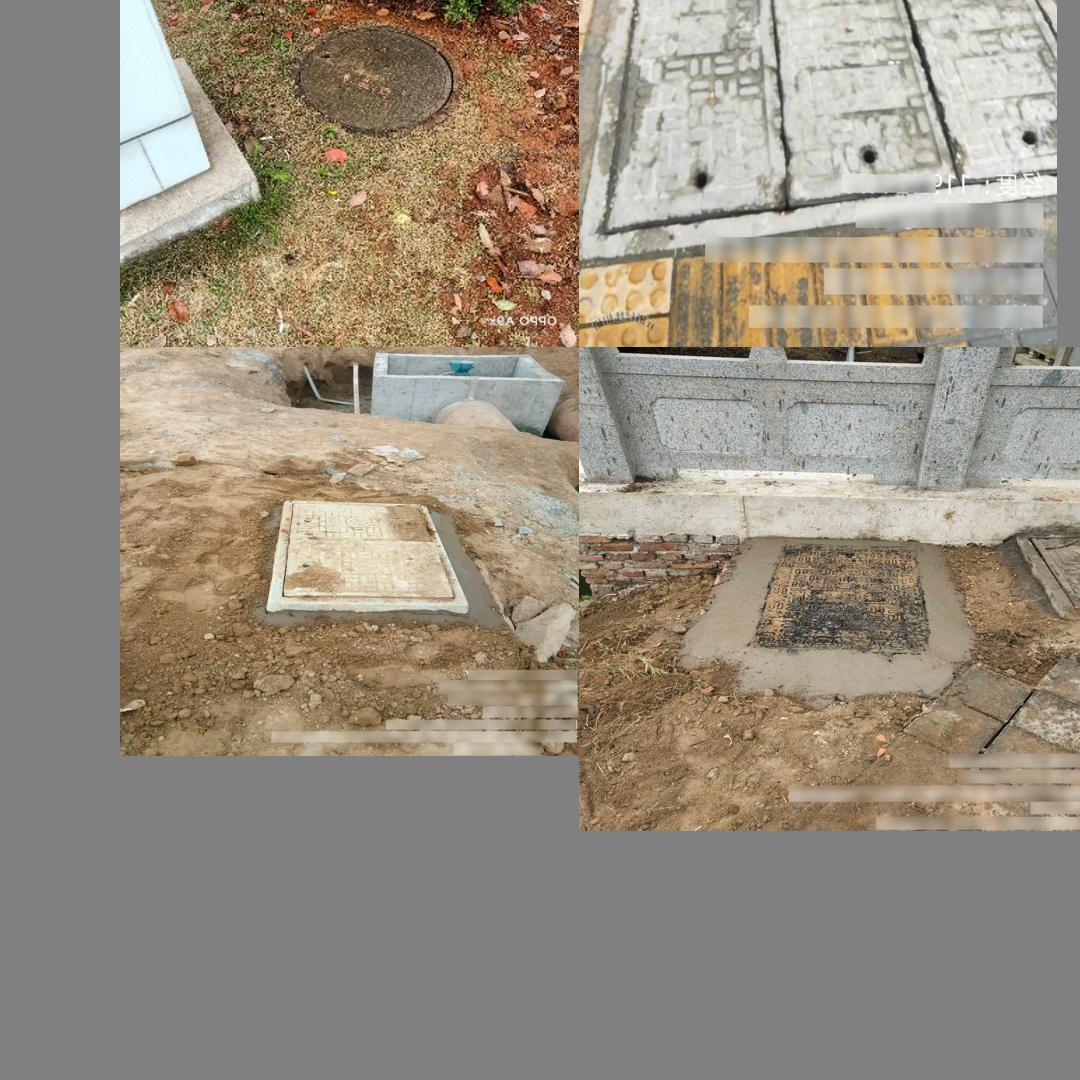good: (585, 0, 1056, 250), (264, 500, 469, 611), (744, 540, 935, 652), (296, 25, 460, 136)
